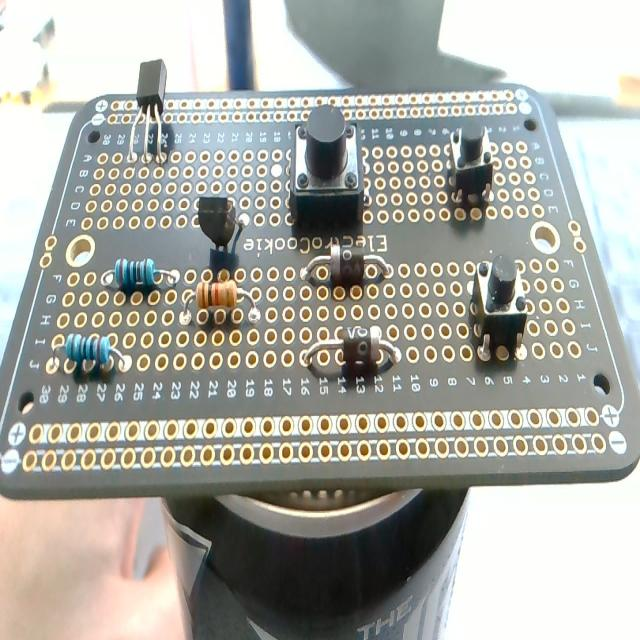diode: (305, 327, 402, 376), (303, 241, 393, 291)
resistor: (182, 272, 258, 326), (102, 256, 176, 295), (66, 332, 114, 368)
switch: (289, 108, 366, 228), (472, 254, 529, 360), (450, 120, 494, 208)
transistor: (126, 59, 169, 166), (194, 195, 246, 252)
